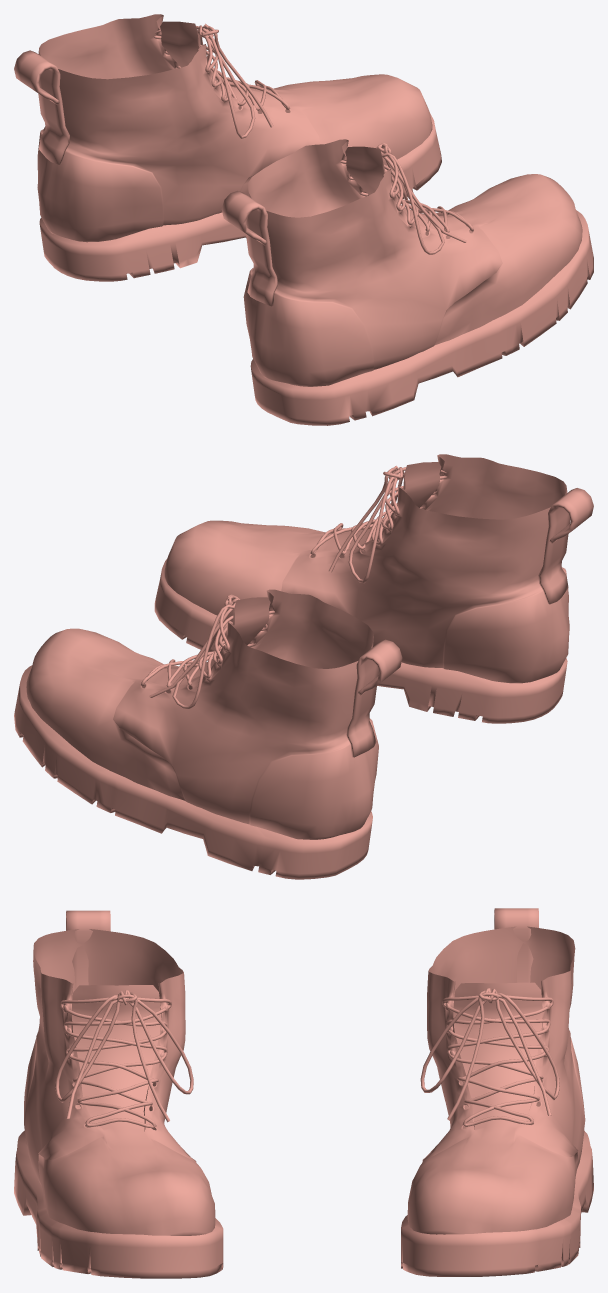
The model's file is BootsBeige.gltf.
3 views of the same model, one above another, from view 1: azimuth 30°, elevation 25°; view 2: azimuth 150°, elevation 25°; view 3: azimuth 270°, elevation 25° (orthographic). The views are drawn at different scales.
Parts seen in each view (by area): view 1: Shoe.002; view 2: Shoe.002; view 3: Shoe.002.
Part boxes in pixels (x1,y1,x2,y2): Shoe.002: [14, 14, 593, 425]; Shoe.002: [14, 454, 593, 879]; Shoe.002: [14, 908, 593, 1278].
Bounding box in the file's own units: 2.11 × 1.15 × 2.49.
